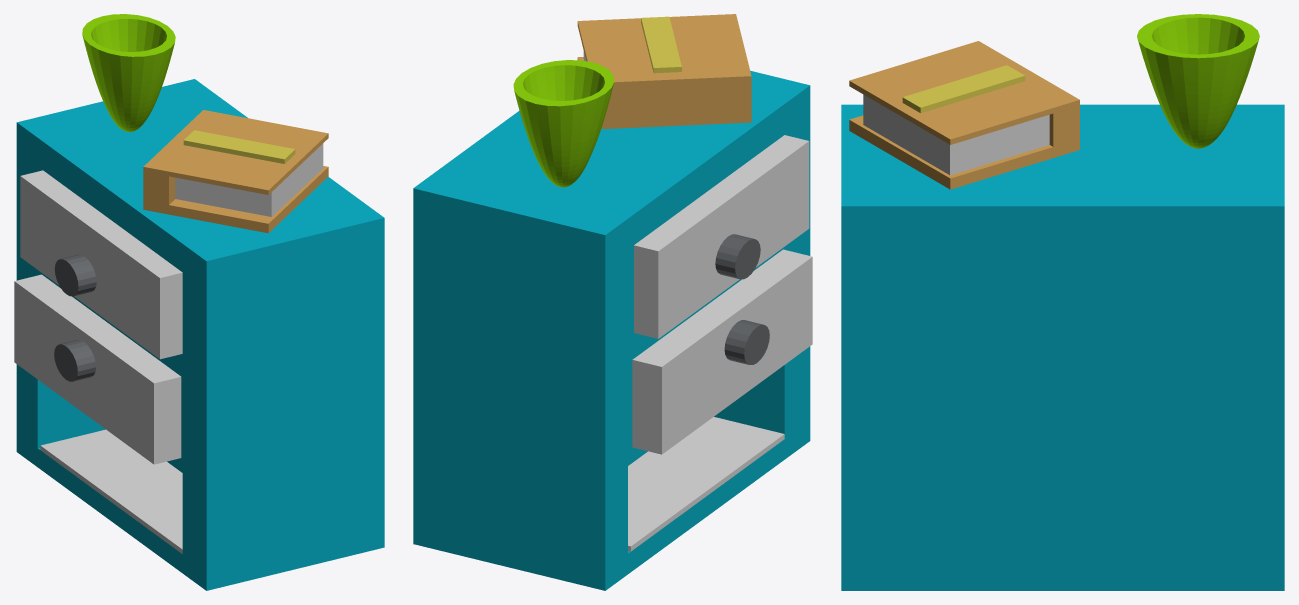
The model's file is Side Table Model Project 149.glb.
3 renders of one model, left to right at view 1: azimuth 30°, elevation 25°; view 2: azimuth 150°, elevation 25°; view 3: azimuth 270°, elevation 25°, orthographic. The views are drawn at different scales.
Parts seen in each view (by area): view 1: Mesh_Mesh_head_geo.001_lambert2SG.001; view 2: Mesh_Mesh_head_geo.001_lambert2SG.001; view 3: Mesh_Mesh_head_geo.001_lambert2SG.001.
Part boxes in pixels (x1,y1,x2,y2): Mesh_Mesh_head_geo.001_lambert2SG.001: (14,14,384,590); Mesh_Mesh_head_geo.001_lambert2SG.001: (413,14,812,590); Mesh_Mesh_head_geo.001_lambert2SG.001: (841,14,1284,590).
Bounding box in the file's own units: 49 × 89 × 72.
